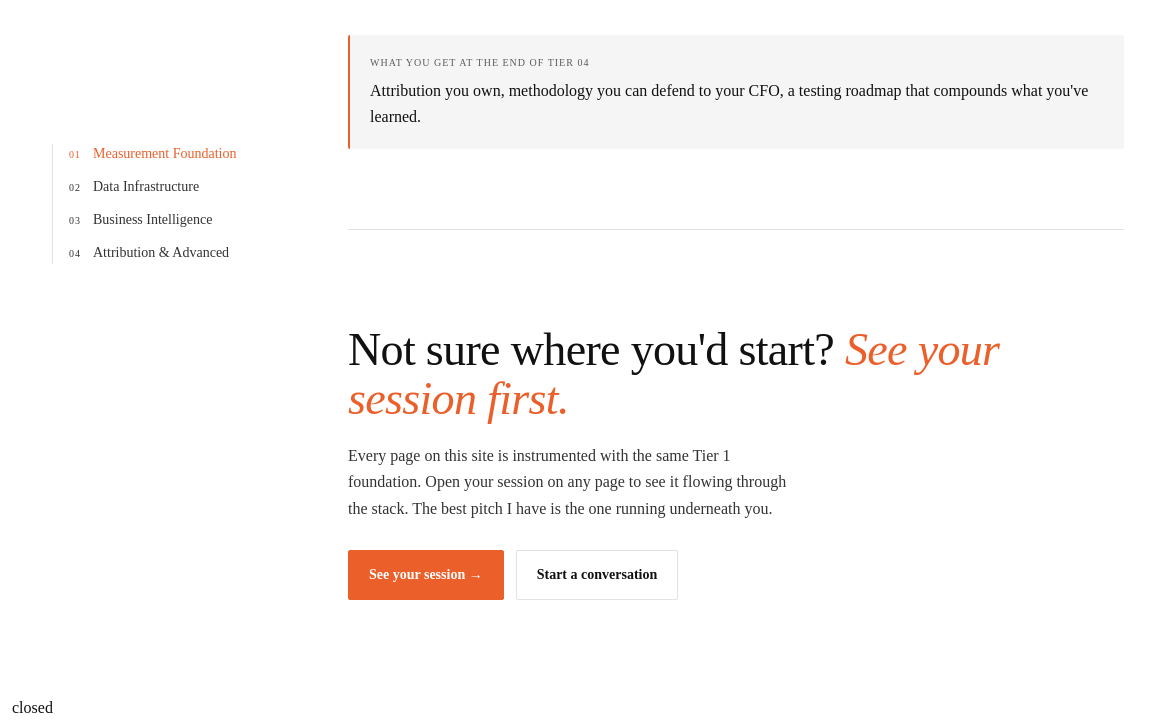
Test case: ServicesPage, editorial › renders the closer CTA that opens the overlay
The width and height of the screenshot is (1164, 720).
Expected: the heading "Not sure where you'd start? See your session first." is shown, [348,324,999,424]
Click the button "See your session →".
click(426, 575)  # box [348,550,504,600]
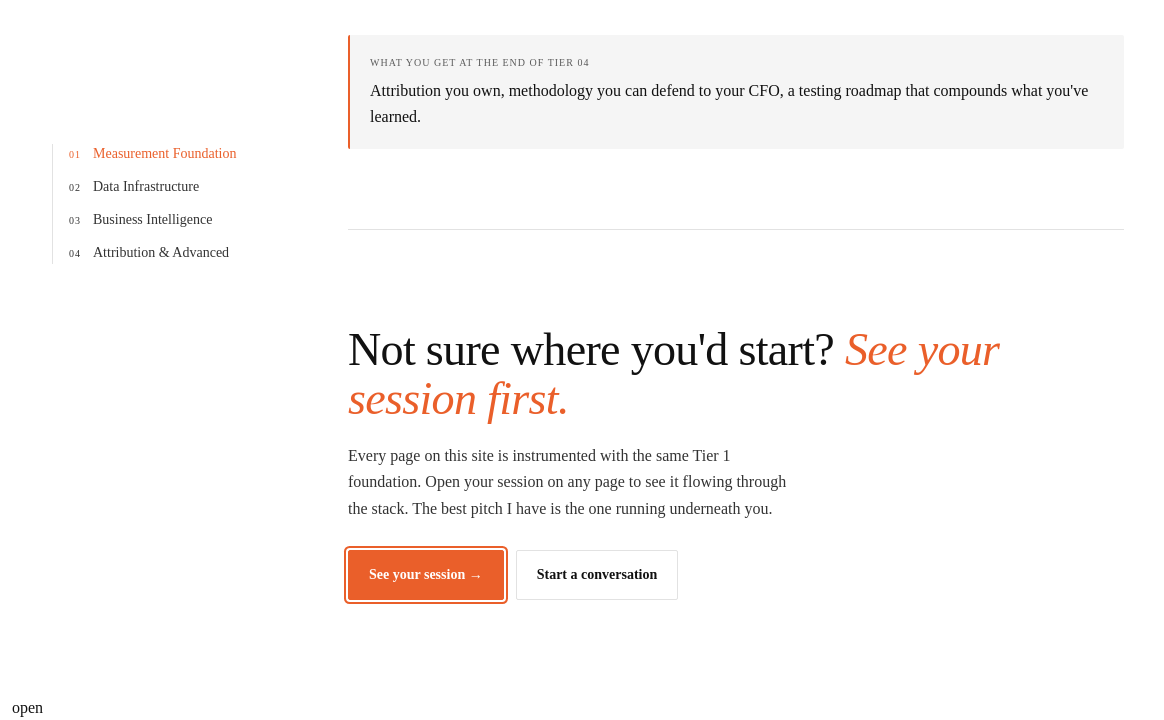
Now the text with test id "overlay-status" reads "open", box [12,699,43,716]
